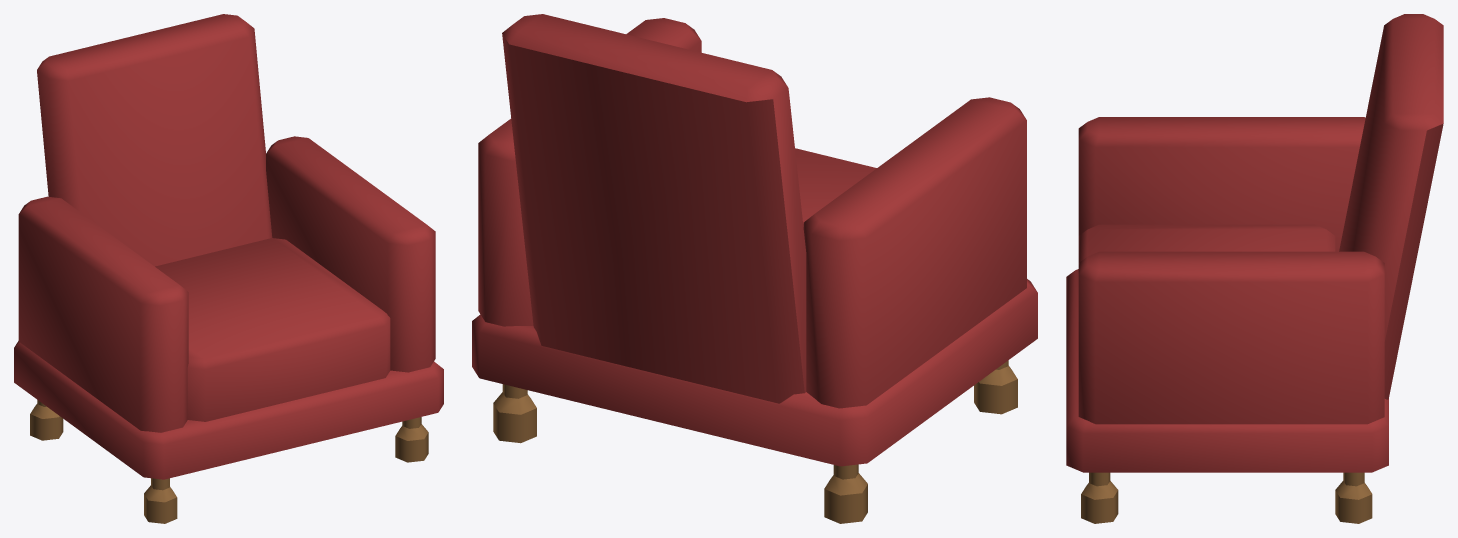
Rendered from 11_furniture_sofa2.FBX.
3 views of the same model, side by side, from view 1: azimuth 30°, elevation 25°; view 2: azimuth 150°, elevation 25°; view 3: azimuth 270°, elevation 25° (orthographic). The views are drawn at different scales.
Parts seen in each view (by area): view 1: furniture_sofa2; view 2: furniture_sofa2; view 3: furniture_sofa2.
Boxes of the visible parts, x1,y1,x2,y2 form: furniture_sofa2: (14, 14, 443, 523); furniture_sofa2: (472, 14, 1037, 523); furniture_sofa2: (1066, 14, 1443, 523).
Bounding box in the file's own units: 63.32 × 68.75 × 61.67.
